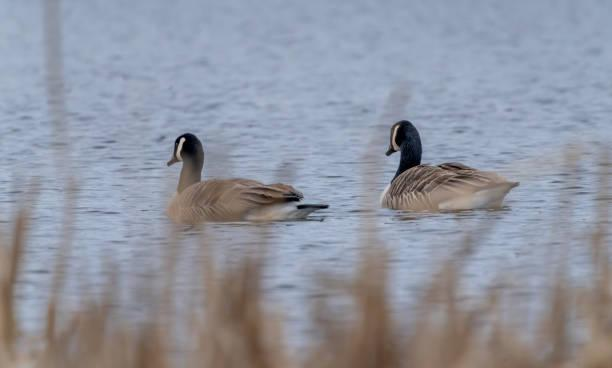Canadian-Goose: (162, 131, 332, 222), (378, 116, 520, 212)
